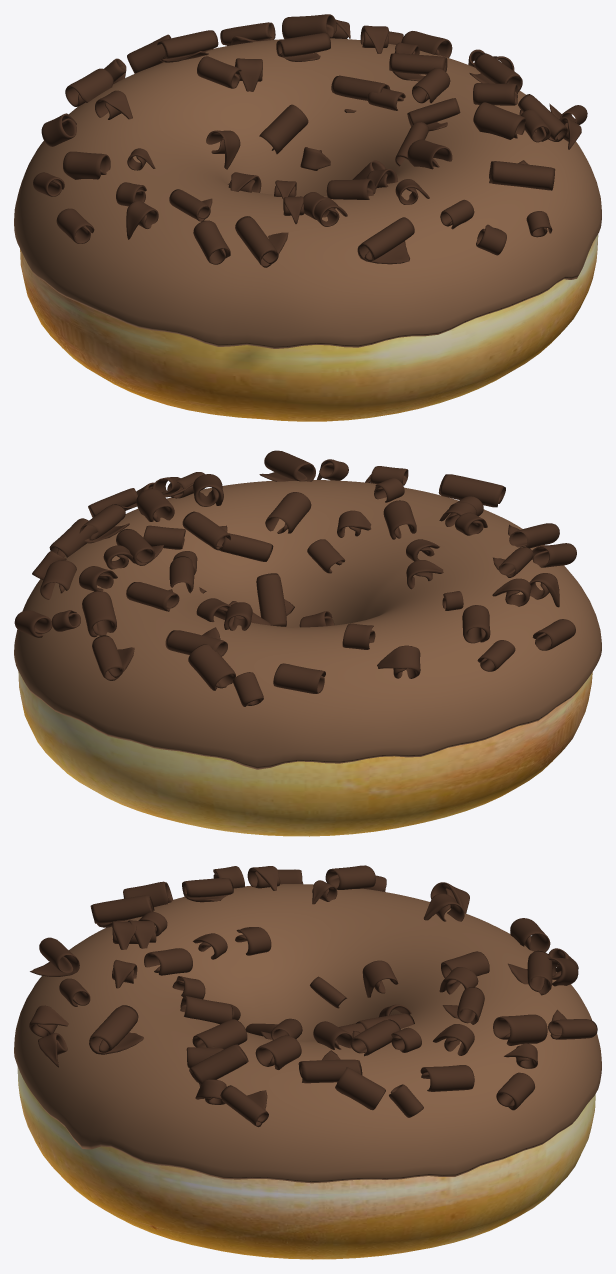
Rendered from coffee dark curls.glb.
3 views of the same model, one above another, from view 1: azimuth 30°, elevation 25°; view 2: azimuth 150°, elevation 25°; view 3: azimuth 270°, elevation 25° (orthographic). The views are drawn at different scales.
Parts seen in each view (by area): view 1: chocolate.001, choco & straw, Torus; view 2: chocolate.001, choco & straw, Torus; view 3: chocolate.001, choco & straw, Torus.
Part boxes in pixels (<box>): chocolate.001: <box>14,38,601,348</box>; choco & straw: <box>33,14,587,267</box>; Torus: <box>20,234,598,421</box>; chocolate.001: <box>14,480,601,769</box>; choco & straw: <box>14,450,576,706</box>; Torus: <box>18,671,592,836</box>; chocolate.001: <box>14,884,601,1183</box>; choco & straw: <box>29,865,597,1127</box>; Torus: <box>17,1066,595,1259</box>.
Bounding box in the file's own units: 0.1995 × 0.0804 × 0.1978.
3 materials, 1 textured.
